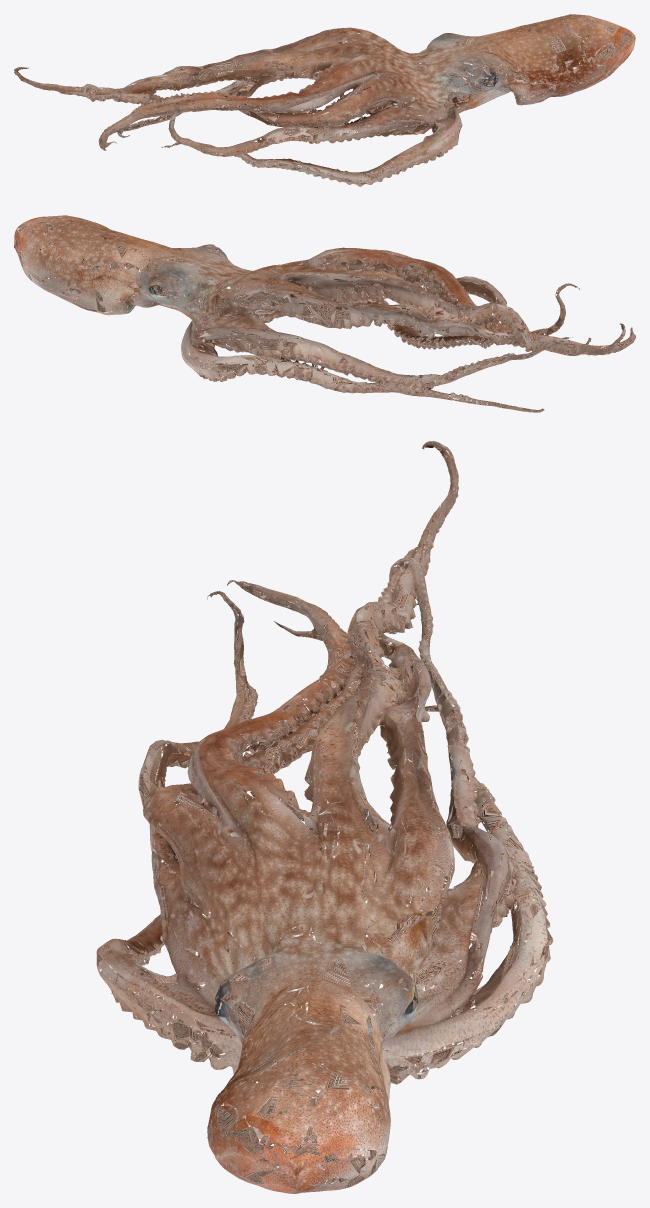
Rendered from earth3d3-giant-pacific-octopus.glb.
3 renders of one model, top to bottom at view 1: azimuth 30°, elevation 25°; view 2: azimuth 150°, elevation 25°; view 3: azimuth 270°, elevation 25°, orthographic. The views are drawn at different scales.
Parts seen in each view (by area): view 1: Object_6, Object_12; view 2: Object_6, Object_12; view 3: Object_6, Object_12.
Boxes of the visible parts, x1=… form: Object_6: x1=14, y1=14, x2=635, y2=185; Object_12: x1=14, y1=15, x2=635, y2=186; Object_6: x1=15, y1=215, x2=635, y2=412; Object_12: x1=14, y1=215, x2=635, y2=412; Object_6: x1=96, y1=444, x2=552, y2=1193; Object_12: x1=96, y1=441, x2=553, y2=1193.
Size of the model in its own units: 12.06 by 2.62 by 4.11.
2 materials, 2 textured.
